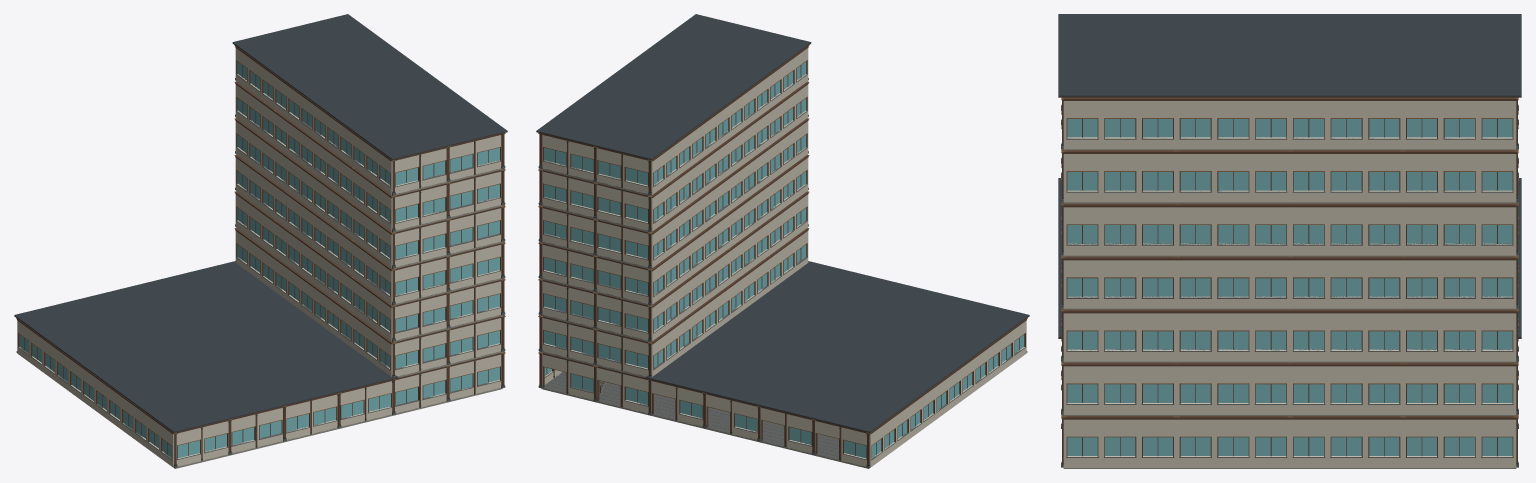
The picture shows the model from 3 angles, left to right: view 1: azimuth 30°, elevation 25°; view 2: azimuth 150°, elevation 25°; view 3: azimuth 270°, elevation 25°; orthographic projection. The views are drawn at different scales.
Visible parts, largest first — view 1: 参数墙 · 独立窗玻璃 (×46), 连续屋面 · flat (×2); view 2: 参数墙 · 独立窗玻璃 (×40), 连续屋面 · flat (×2), 参数墙 · 通行门洞 (×6), 石铺面与混凝土楼板 (×5); view 3: 参数墙 · 独立窗玻璃 (×28), 连续屋面 · flat (×2).
Boxes of the visible parts, x1=… form: 参数墙 · 独立窗玻璃 (×46): x1=17, y1=46, x2=502, y2=467; 连续屋面 · flat (×2): x1=14, y1=14, x2=507, y2=433; 参数墙 · 独立窗玻璃 (×40): x1=541, y1=46, x2=1026, y2=467; 连续屋面 · flat (×2): x1=536, y1=14, x2=1029, y2=433; 参数墙 · 通行门洞 (×6): x1=542, y1=353, x2=867, y2=466; 石铺面与混凝土楼板 (×5): x1=541, y1=372, x2=835, y2=455; 参数墙 · 独立窗玻璃 (×28): x1=1063, y1=97, x2=1516, y2=467; 连续屋面 · flat (×2): x1=1058, y1=14, x2=1521, y2=338.
Size of the model in its own units: 42 by 31.12 by 34.8.
Materials: 15 (15 with a texture image).
